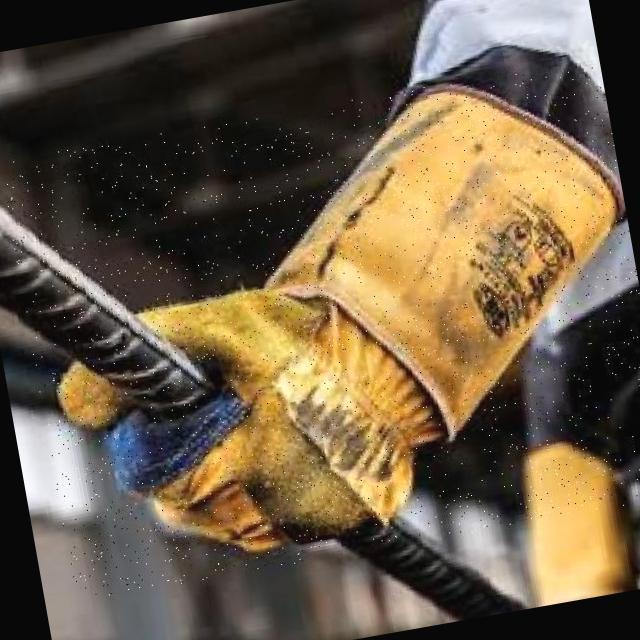gloves: (1, 52, 640, 595)
